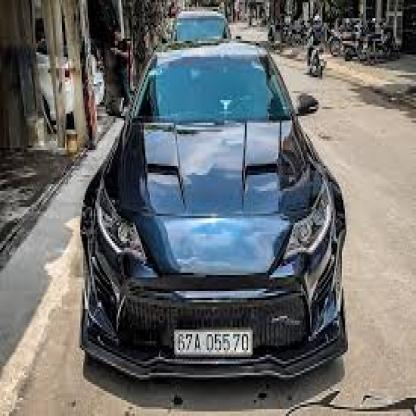biensoxe: (172, 327, 253, 360)
